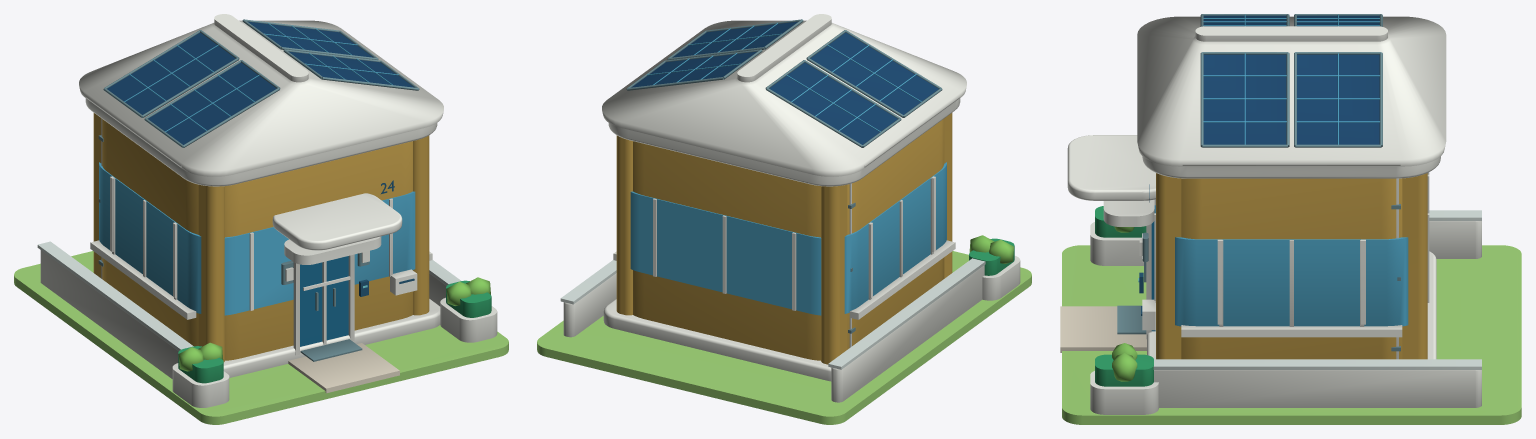
Rendered from house-cream.glb.
3 renders of one model, left to right at view 1: azimuth 30°, elevation 25°; view 2: azimuth 150°, elevation 25°; view 3: azimuth 270°, elevation 25°, orthographic. The views are drawn at different scales.
Parts seen in each view (by area): view 1: house footing, house shell, continuous blue glazing, residential garden, inset solar roof module, solar module frame, recessed entrance, front walk, garden wall cap, planter foliage, shrub tip; view 2: house footing, house shell, continuous blue glazing, residential garden, inset solar roof module, solar module frame, garden wall cap, shrub tip, planter foliage; view 3: house footing, house shell, residential garden, continuous blue glazing, inset solar roof module, solar module frame, garden wall cap, front walk, planter foliage, shrub tip.
Part boxes in pixels (<box>): house footing: <box>40,14,497,407</box>; house shell: <box>93,113,429,362</box>; continuous blue glazing: <box>99,23,415,315</box>; residential garden: <box>14,251,508,424</box>; inset solar roof module: <box>107,21,414,144</box>; solar module frame: <box>98,19,419,361</box>; recessed entrance: <box>300,256,348,346</box>; front walk: <box>288,343,399,393</box>; garden wall cap: <box>37,241,460,350</box>; planter foliage: <box>178,280,491,383</box>; shrub tip: <box>178,277,490,371</box>; house footing: <box>563,14,1020,402</box>; house shell: <box>616,113,952,364</box>; continuous blue glazing: <box>630,23,946,315</box>; residential garden: <box>537,251,1031,424</box>; inset solar roof module: <box>631,21,938,144</box>; solar module frame: <box>626,19,942,333</box>; garden wall cap: <box>560,258,985,369</box>; shrub tip: <box>969,235,1013,263</box>; planter foliage: <box>969,238,1014,275</box>; house footing: <box>1067,16,1481,414</box>; house shell: <box>1156,173,1427,359</box>; residential garden: <box>1062,245,1521,424</box>; continuous blue glazing: <box>1175,14,1408,326</box>; inset solar roof module: <box>1203,15,1379,144</box>; solar module frame: <box>1117,14,1400,351</box>; garden wall cap: <box>1153,210,1481,369</box>; front walk: <box>1060,306,1146,352</box>; planter foliage: <box>1095,206,1153,386</box>; shrub tip: <box>1112,226,1137,381</box>.
Bounding box in the file's own units: 2.73 × 2.28 × 3.09.
